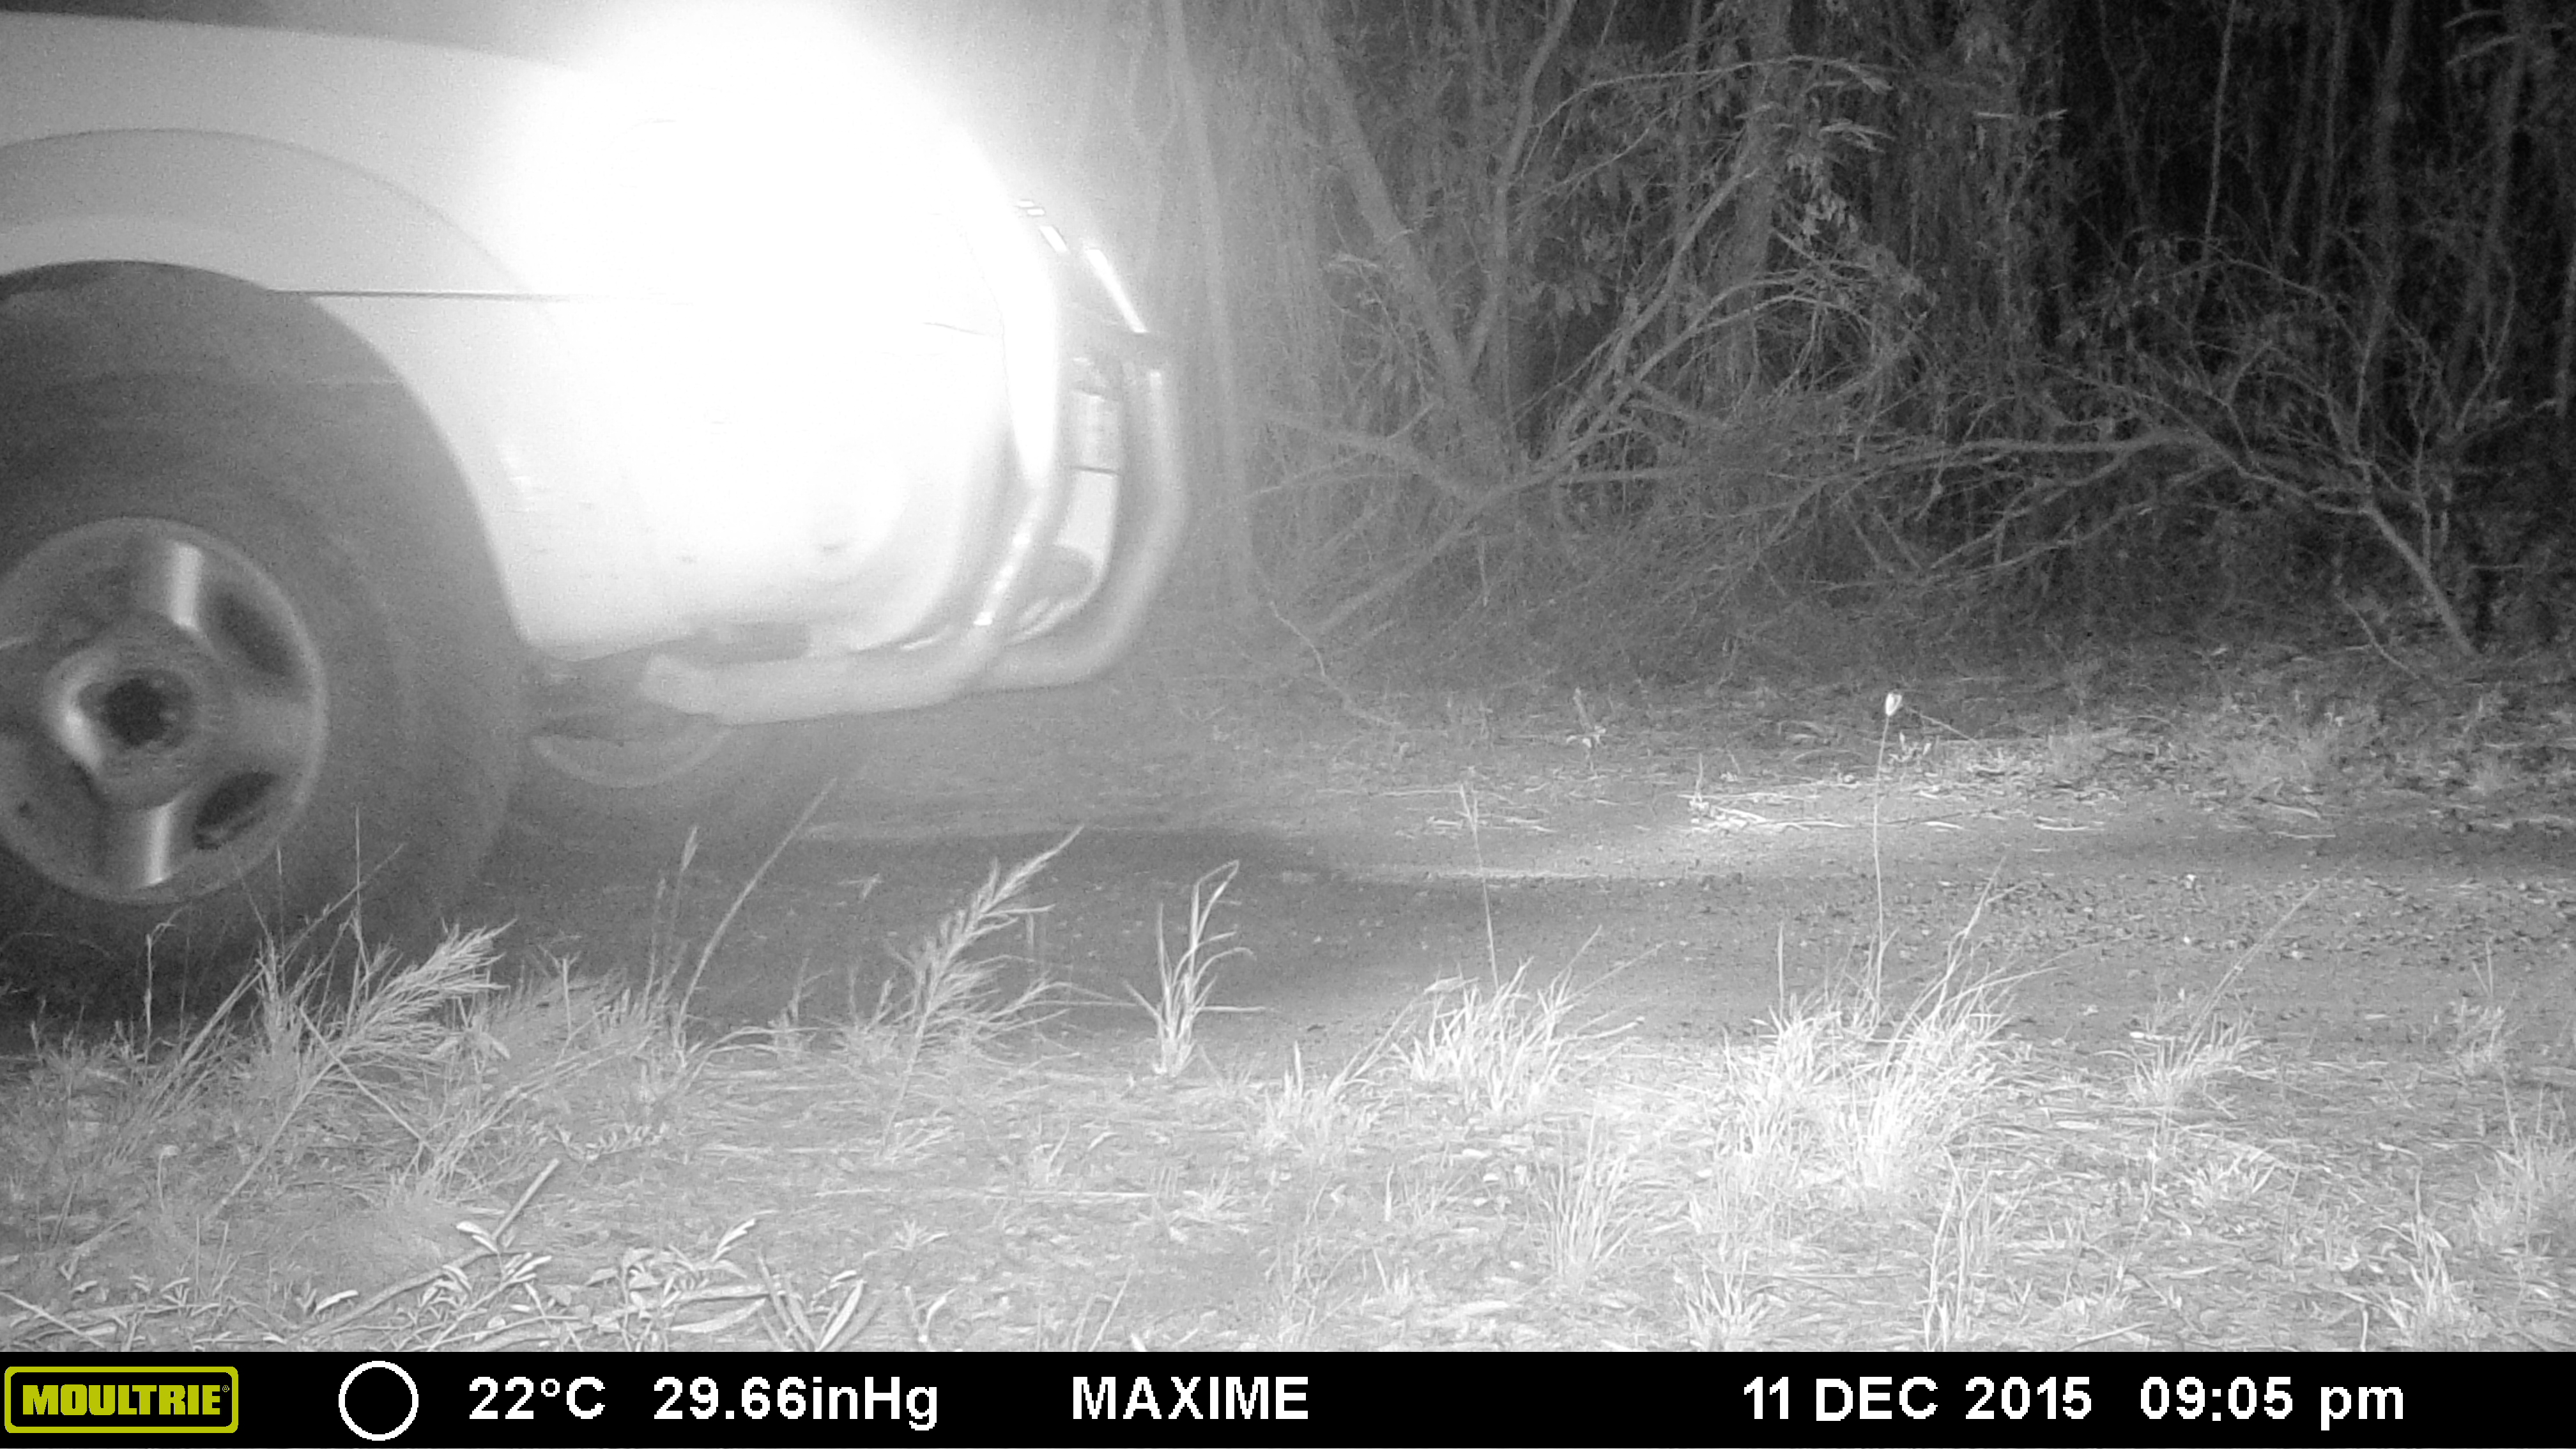Car: (4, 2, 1178, 1031)
